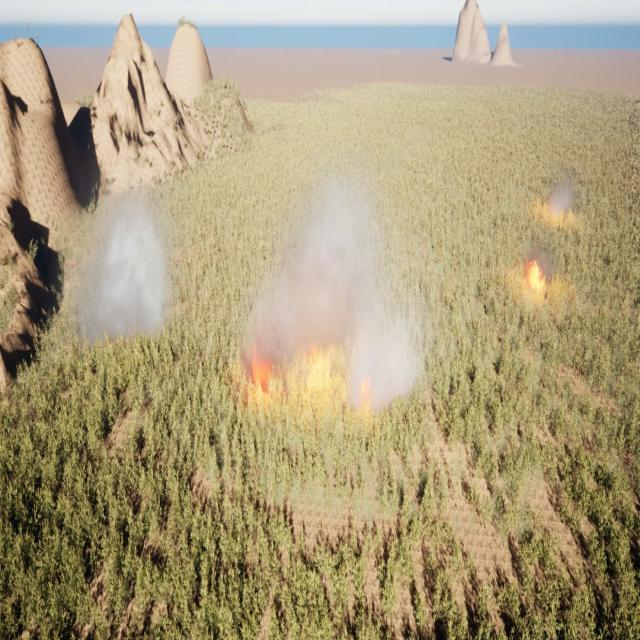fire: (300, 342, 340, 396), (248, 341, 272, 390), (527, 258, 544, 289), (362, 379, 374, 414)
smoke: (238, 158, 433, 418), (68, 198, 178, 340), (534, 244, 560, 284), (550, 183, 573, 217)
